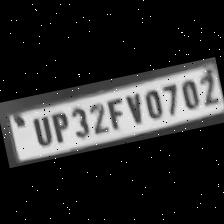0: (174, 74, 202, 112), (138, 84, 164, 121)
2: (84, 97, 110, 136), (194, 68, 220, 107)
3: (64, 102, 92, 140)
7: (158, 79, 184, 116)
F: (101, 94, 127, 131)
P: (48, 108, 72, 144)
U: (26, 112, 54, 148)
V: (120, 89, 146, 126)
